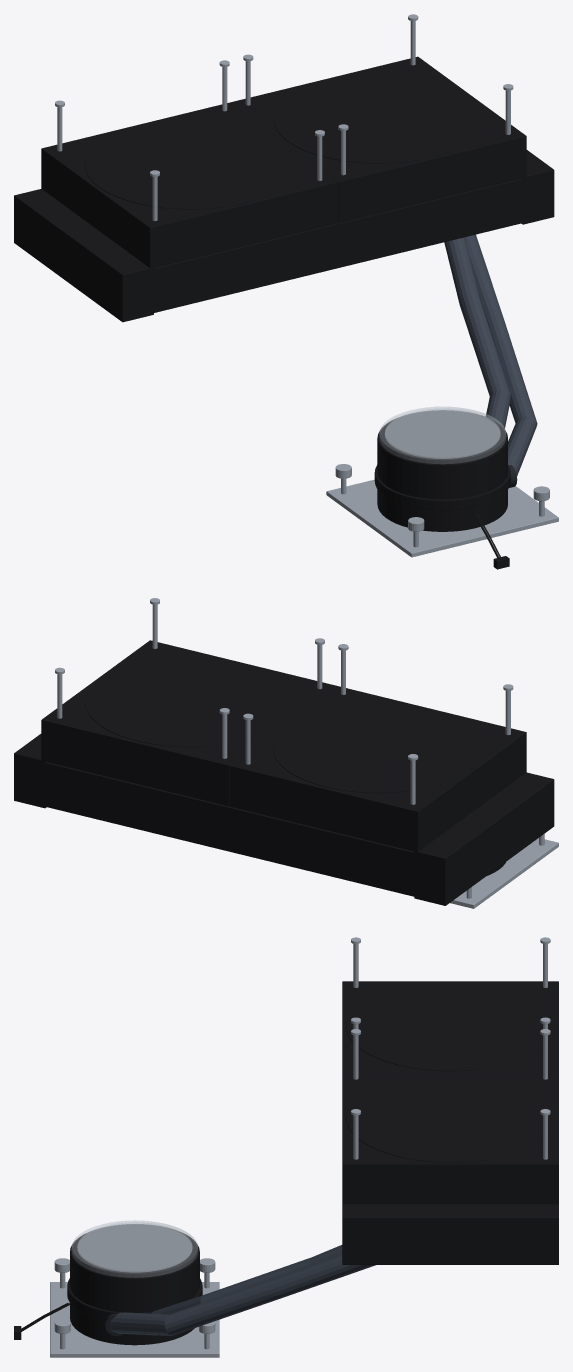
File: cpu-cooler-liquid.lod0.glb
3 views of the same model, one above another, from view 1: azimuth 30°, elevation 25°; view 2: azimuth 150°, elevation 25°; view 3: azimuth 270°, elevation 25° (orthographic).
Parts seen in each view (by area): view 1: P02_cooling_fans, P03_radiator_shroud, P06_pump_block, P04_epdm_tubing, P08_mounting_ring, P09_top_infinity_cap, P10_fan_screws; view 2: P02_cooling_fans, P03_radiator_shroud, P10_fan_screws, P08_mounting_ring; view 3: P02_cooling_fans, P03_radiator_shroud, P06_pump_block, P04_epdm_tubing, P09_top_infinity_cap, P08_mounting_ring, P10_fan_screws.
Part boxes in pixels (box(x1,y1,x2,y2)): P02_cooling_fans: box(41, 56, 526, 268); P03_radiator_shroud: box(14, 150, 554, 322); P06_pump_block: box(374, 410, 510, 531); P04_epdm_tubing: box(444, 234, 537, 475); P08_mounting_ring: box(326, 464, 558, 557); P09_top_infinity_cap: box(379, 406, 506, 463); P10_fan_screws: box(55, 14, 513, 220); P02_cooling_fans: box(41, 640, 526, 852); P03_radiator_shroud: box(14, 734, 554, 905); P10_fan_screws: box(55, 598, 513, 804); P08_mounting_ring: box(450, 834, 558, 908); P02_cooling_fans: box(342, 981, 558, 1204); P03_radiator_shroud: box(342, 1204, 558, 1264); P06_pump_block: box(67, 1224, 202, 1345); P04_epdm_tubing: box(109, 1245, 375, 1335); P09_top_infinity_cap: box(71, 1220, 197, 1277); P08_mounting_ring: box(50, 1258, 219, 1357); P10_fan_screws: box(351, 937, 550, 1159).
Bounding box in the file's own units: 275 × 191 × 302.
